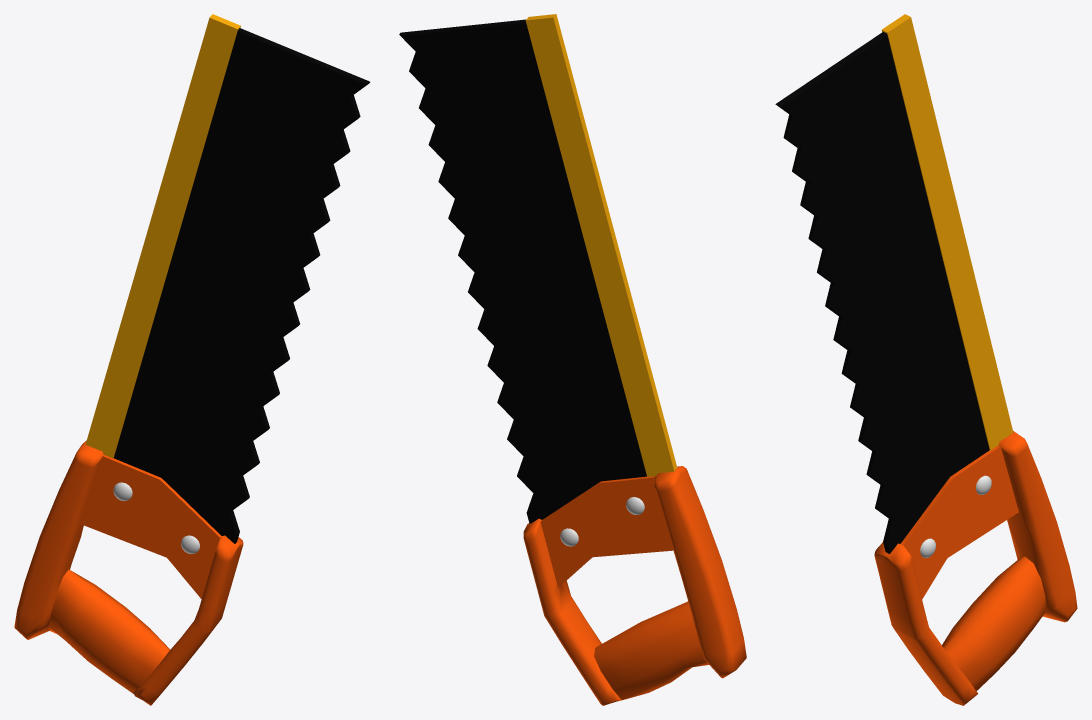
3 renders of one model, left to right at view 1: azimuth 30°, elevation 25°; view 2: azimuth 210°, elevation 25°; view 3: azimuth 270°, elevation 25°, orthographic. The views are drawn at different scales.
Visible parts, largest first — view 1: saw, handle.002, top_edge; view 2: saw, handle.002, top_edge; view 3: saw, handle.002, top_edge.
Part boxes in pixels (x1,y1,x2,y2): saw: (114, 28, 369, 543); handle.002: (14, 440, 243, 705); top_edge: (85, 14, 240, 458); saw: (399, 19, 646, 523); handle.002: (523, 466, 746, 705); top_edge: (525, 14, 677, 476); saw: (775, 32, 989, 553); handle.002: (874, 431, 1077, 705); top_edge: (881, 14, 1013, 450).
Size of the model in its own units: 21.92 by 25.57 by 65.82.
